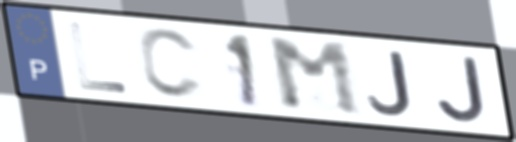1: (220, 31, 266, 110)
C: (135, 26, 208, 103)
J: (433, 54, 490, 126), (365, 50, 416, 118)
L: (66, 19, 131, 96)
M: (263, 36, 367, 119)
